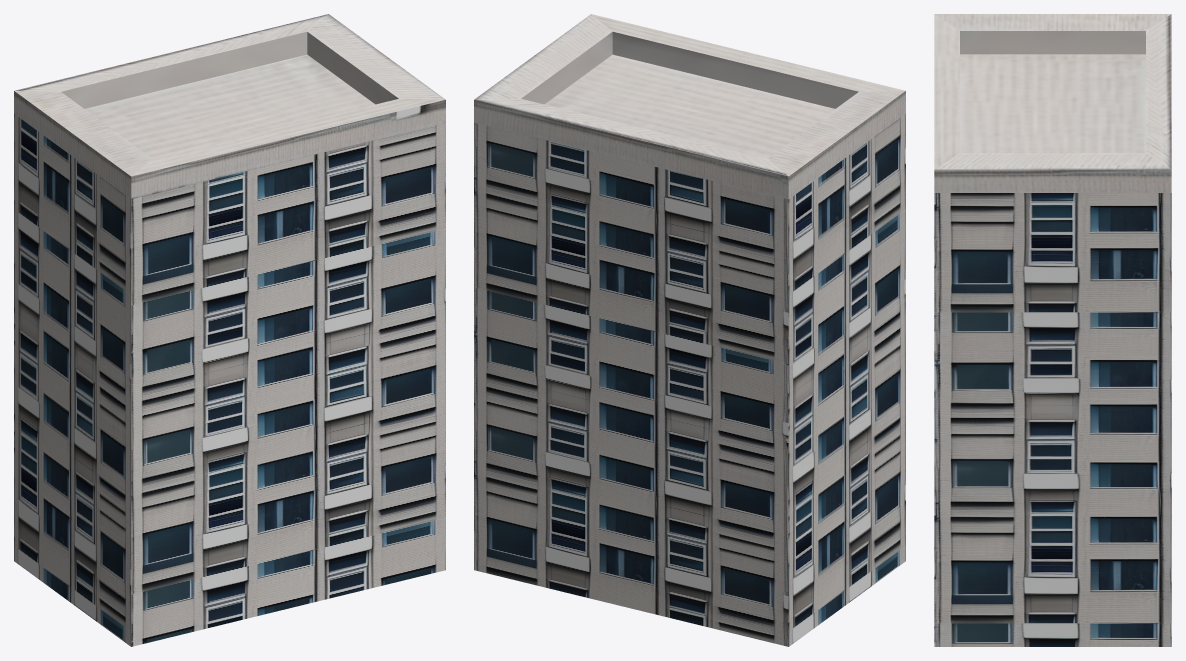
File: Building001.fbx
The picture shows the model from 3 angles, left to right: view 1: azimuth 30°, elevation 25°; view 2: azimuth 150°, elevation 25°; view 3: azimuth 270°, elevation 25°; orthographic projection.
Parts seen in each view (by area): view 1: Building 001.008; view 2: Building 001.008; view 3: Building 001.008.
Boxes of the visible parts, x1,y1,x2,y2 form: Building 001.008: [14, 14, 445, 646]; Building 001.008: [474, 14, 905, 646]; Building 001.008: [934, 14, 1171, 646].
Size of the model in its own units: 46.38 by 66.25 by 29.9.
